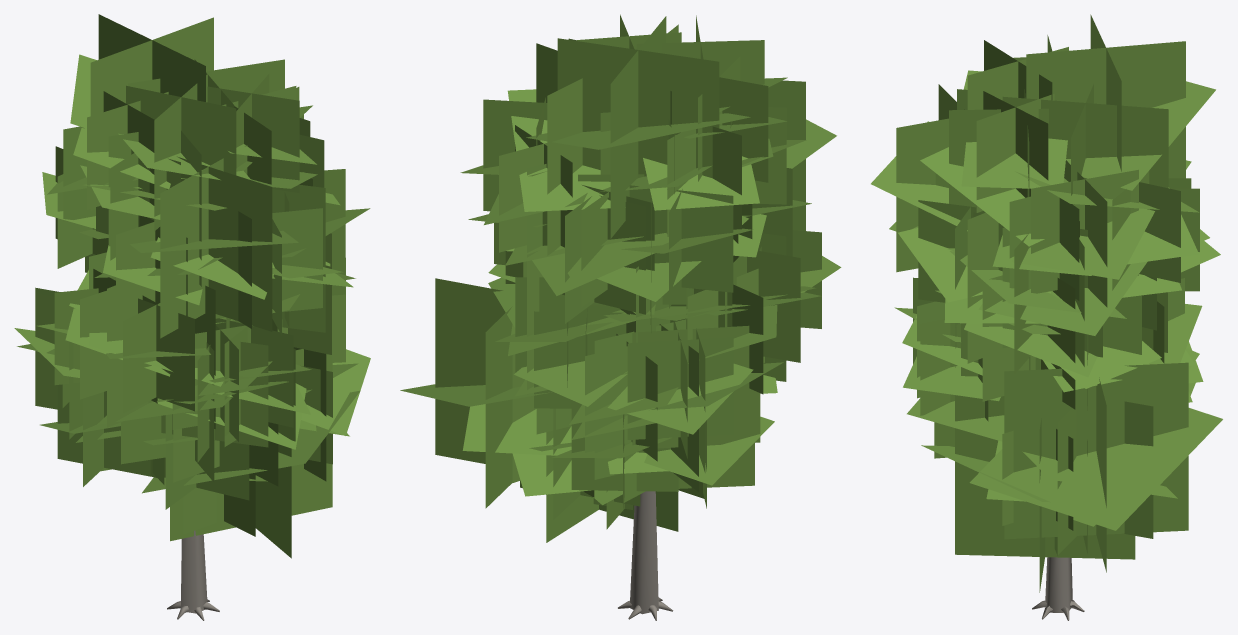
Rendered from tilleul_3_f3_loin.glb.
The picture shows the model from 3 angles, left to right: view 1: azimuth 30°, elevation 25°; view 2: azimuth 150°, elevation 25°; view 3: azimuth 270°, elevation 25°; orthographic projection. The views are drawn at different scales.
Visible parts, largest first — view 1: Tilleul_T3_f3_Leger_Loin; view 2: Tilleul_T3_f3_Leger_Loin; view 3: Tilleul_T3_f3_Leger_Loin.
Part boxes in pixels (x1,y1,x2,y2): Tilleul_T3_f3_Leger_Loin: [14, 14, 370, 620]; Tilleul_T3_f3_Leger_Loin: [400, 14, 841, 620]; Tilleul_T3_f3_Leger_Loin: [871, 14, 1222, 620].
Bounding box in the file's own units: 10.48 × 15.74 × 9.08.
